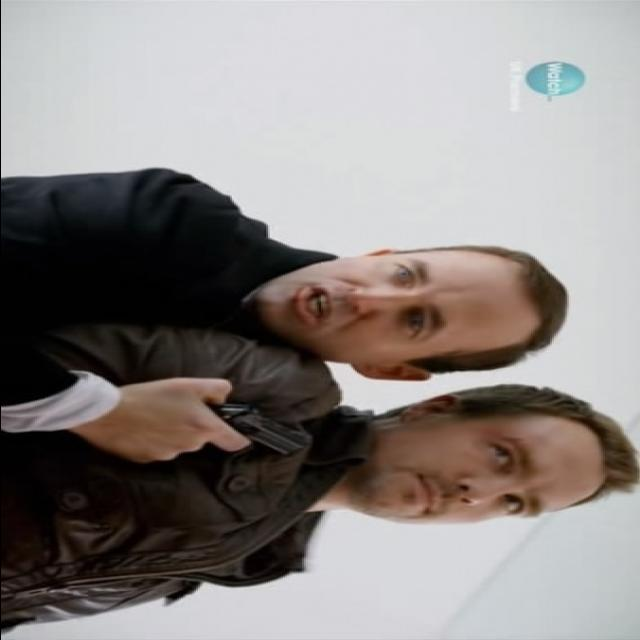weapons: (75, 385, 323, 476)
